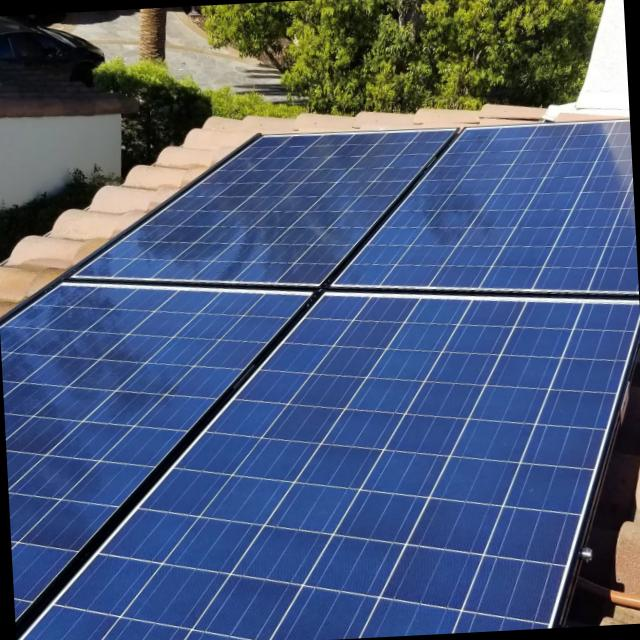no faulty: (7, 121, 640, 640)
